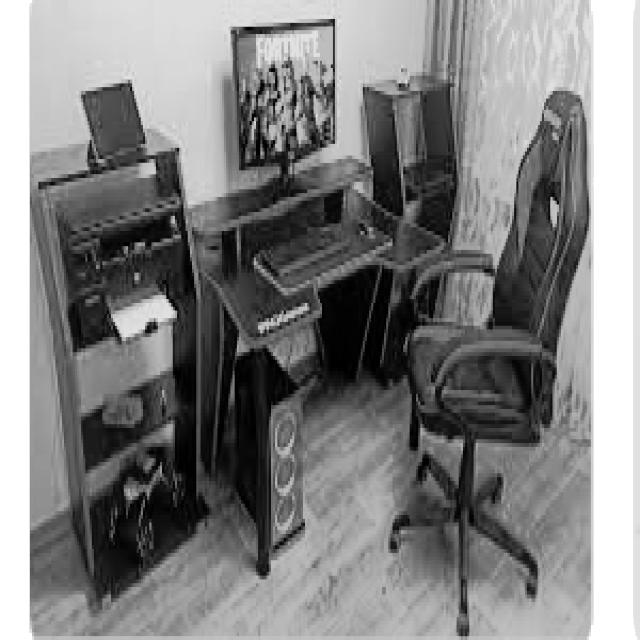book: (386, 87, 589, 636)
table: (185, 155, 446, 576)
